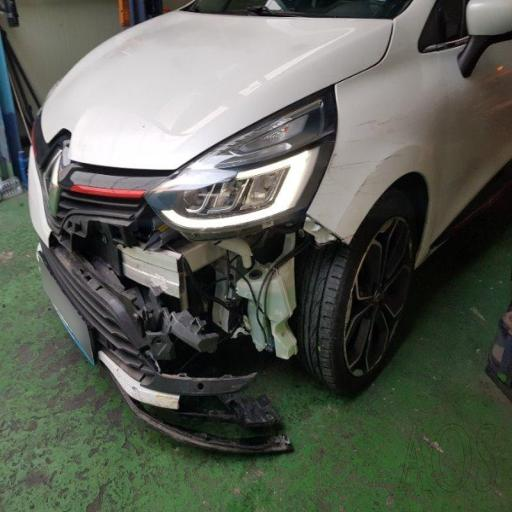broken: (112, 177, 346, 464)
scratch: (342, 107, 438, 179)
